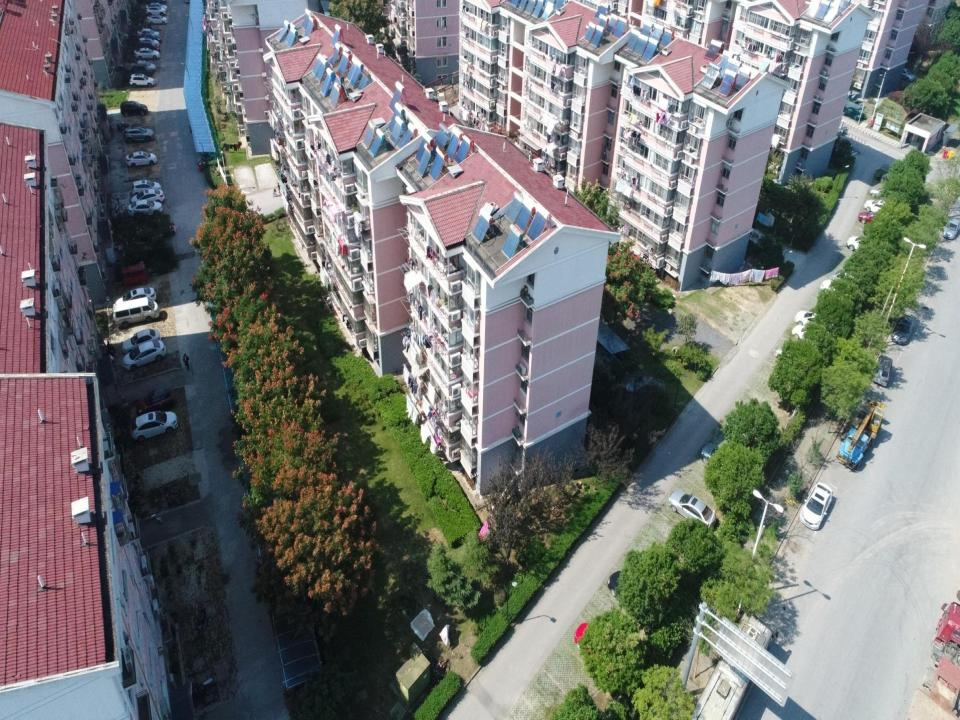bus: (687, 611, 774, 718)
car: (574, 622, 623, 674), (607, 570, 656, 610), (668, 489, 716, 528), (130, 409, 178, 444), (799, 481, 833, 530), (122, 339, 166, 372), (700, 443, 746, 474), (624, 372, 667, 404), (134, 386, 176, 416), (774, 340, 815, 368), (121, 328, 160, 355), (890, 313, 920, 346), (794, 310, 836, 330), (115, 286, 157, 306), (820, 279, 860, 299), (122, 123, 155, 145), (128, 198, 163, 218), (125, 150, 158, 170), (130, 178, 162, 197), (131, 187, 166, 204), (791, 324, 828, 340), (846, 235, 882, 251), (830, 270, 867, 284), (878, 168, 908, 184), (942, 215, 960, 241), (863, 198, 894, 213), (120, 101, 148, 117), (130, 72, 156, 89), (869, 185, 902, 198), (858, 211, 890, 224), (133, 46, 160, 60), (133, 36, 160, 47), (134, 41, 161, 52), (130, 63, 154, 75), (136, 28, 161, 39), (145, 1, 168, 12), (131, 60, 156, 70), (146, 14, 168, 25), (145, 5, 166, 16)
truck: (904, 600, 960, 720)
van: (114, 295, 160, 331), (874, 354, 892, 386)
